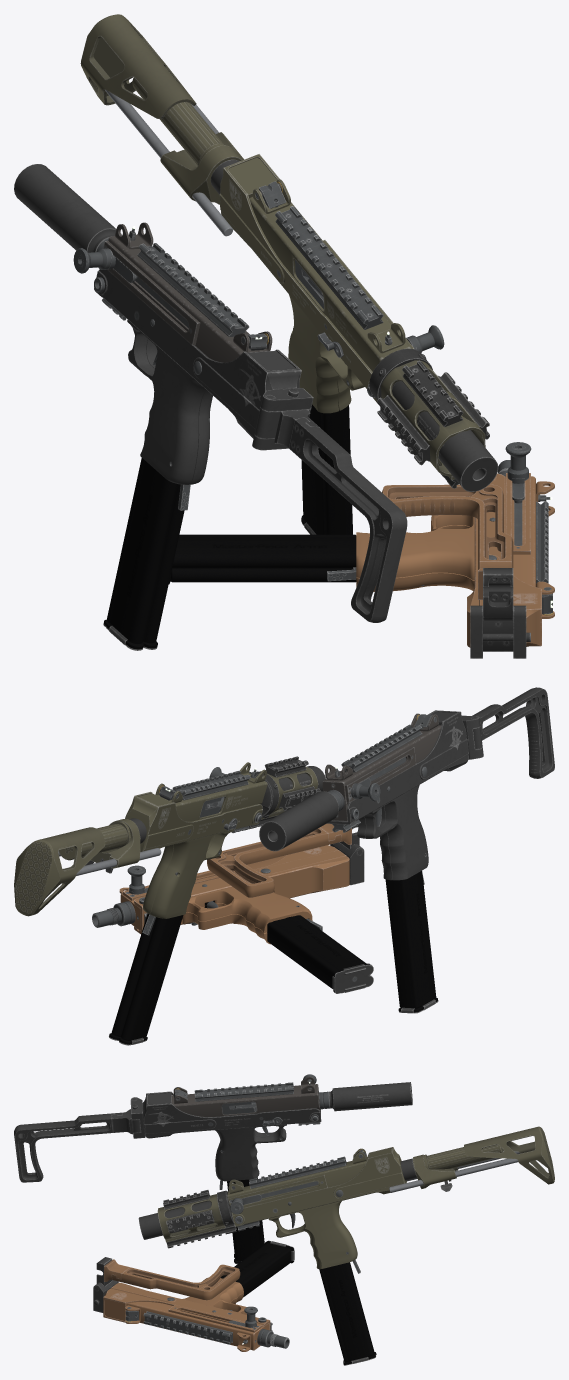
3 renders of one model, top to bottom at view 1: azimuth 30°, elevation 25°; view 2: azimuth 150°, elevation 25°; view 3: azimuth 270°, elevation 25°, orthographic. The views are drawn at different scales.
Parts seen in each view (by area): view 1: LP SST30 Mag, LP SST30 Mag002, LP SST30 Bottom Frame, LP SST30 Stock 1, LP MDCQB-G7 Stock-1, LP SST30 Left Grip Pad, LP SST30 Bottom Frame001, LP SST30 Barrel Extension001, LP SST30 Stock 004, LP SST30 Left Grip Pad002, LP SST30 Top Frame001, LP SST30 Handguard Rails (+22 smaller); view 2: LP SST30 Mag, LP SST30 Mag001, LP MDCQB-G7 Stock-1, LP SST30 Bottom Frame002, LP SST30 Bottom Frame, LP SST30 Bottom Frame001, LP SST30 Mag002, LP SST30 Left Grip Pad, LP SST30 Stock 1, LP SST30 Stock 004, LP SST30 Right Grip Pad001, LP SST30 Left Grip Pad002 (+21 smaller); view 3: LP SST30 Bottom Frame001, LP SST30 Bottom Frame, LP SST30 Mag001, LP SST30 Left Grip Pad001, LP SST30 Stock 1, LP SST30 Right Grip Pad, LP MDCQB-G7 Stock-1, LP SST30 Stock 004, LP SST30 Top Frame, LP SST30 Bottom Frame002, LP SST30 Barrel Extension001, LP SST30 Mag002 (+20 smaller).
Part boxes in pixels (box(x1,y1,x2,y2)): LP SST30 Mag: box(103, 458, 184, 649); LP SST30 Mag002: box(169, 534, 356, 584); LP SST30 Bottom Frame: box(94, 269, 301, 438); LP SST30 Stock 1: box(289, 417, 407, 622); LP MDCQB-G7 Stock-1: box(80, 14, 196, 118); LP SST30 Left Grip Pad: box(127, 320, 205, 484); LP SST30 Bottom Frame001: box(219, 154, 377, 403); LP SST30 Barrel Extension001: box(14, 164, 121, 252); LP SST30 Stock 004: box(382, 484, 513, 566); LP SST30 Left Grip Pad002: box(356, 515, 474, 580); LP SST30 Top Frame001: box(249, 197, 410, 371); LP SST30 Handguard Rails: box(377, 360, 489, 488); LP SST30 Mag: box(385, 871, 438, 1012); LP SST30 Mag001: box(109, 913, 183, 1044); LP MDCQB-G7 Stock-1: box(14, 827, 105, 916); LP SST30 Bottom Frame002: box(134, 845, 349, 934); LP SST30 Bottom Frame: box(327, 710, 468, 824); LP SST30 Bottom Frame001: box(125, 791, 262, 851); LP SST30 Mag002: box(267, 915, 370, 992); LP SST30 Left Grip Pad: box(364, 785, 428, 880); LP SST30 Stock 1: box(472, 687, 554, 778); LP SST30 Stock 004: box(207, 827, 341, 897); LP SST30 Right Grip Pad001: box(151, 830, 233, 918); LP SST30 Left Grip Pad002: box(186, 882, 312, 932); LP SST30 Bottom Frame001: box(232, 1147, 406, 1226); LP SST30 Bottom Frame: box(143, 1091, 321, 1138); LP SST30 Mag001: box(319, 1262, 376, 1364); LP SST30 Left Grip Pad001: box(268, 1201, 357, 1269); LP SST30 Stock 1: box(14, 1112, 122, 1182); LP SST30 Right Grip Pad: box(215, 1124, 286, 1181); LP MDCQB-G7 Stock-1: box(464, 1126, 554, 1184); LP SST30 Stock 004: box(111, 1264, 240, 1300); LP SST30 Top Frame: box(171, 1084, 320, 1116); LP SST30 Bottom Frame002: box(103, 1282, 270, 1330); LP SST30 Barrel Extension001: box(329, 1082, 412, 1111); LP SST30 Mag002: box(221, 1241, 293, 1297).
Size of the model in its own units: 1.52 by 1.4 by 3.06.
8 materials, 8 textured.
